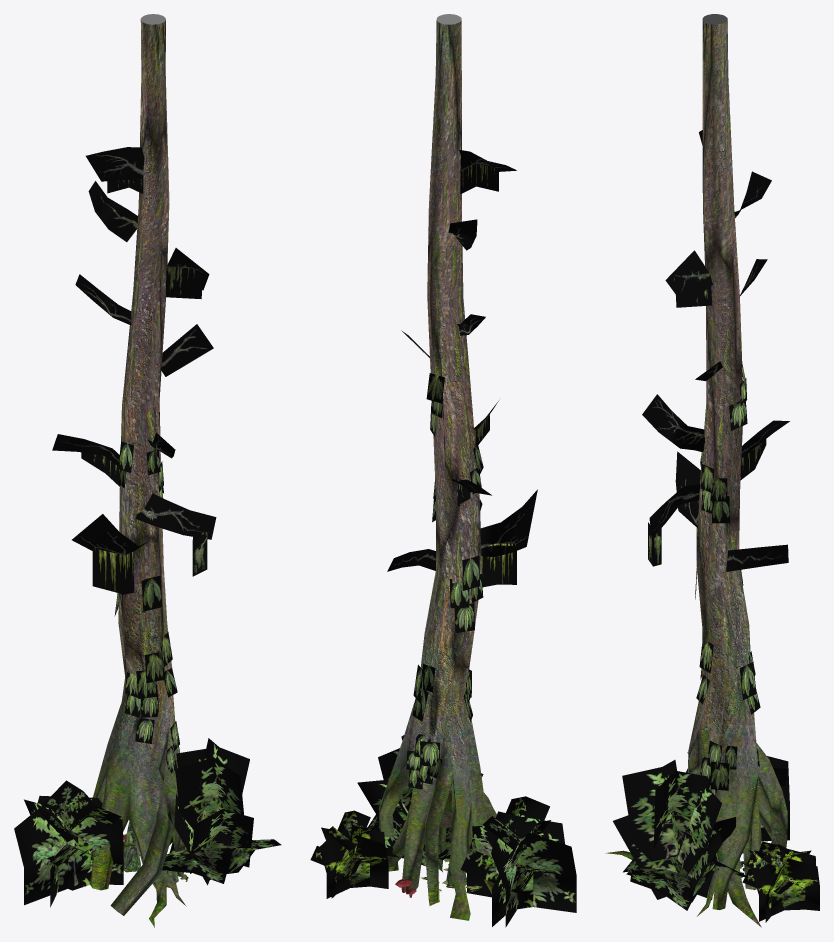
Rendered from forest-tree-2.glb.
3 views of the same model, side by side, from view 1: azimuth 30°, elevation 25°; view 2: azimuth 150°, elevation 25°; view 3: azimuth 270°, elevation 25° (orthographic).
Visible parts, largest first — view 1: forest-tree-2_mesh; view 2: forest-tree-2_mesh; view 3: forest-tree-2_mesh.
Boxes of the visible parts, x1,y1,x2,y2 form: forest-tree-2_mesh: [14, 14, 281, 927]; forest-tree-2_mesh: [310, 14, 576, 927]; forest-tree-2_mesh: [605, 14, 819, 927].
Size of the model in its own units: 2.32 by 8.45 by 1.88.
Materials: 8 (7 with a texture image).
